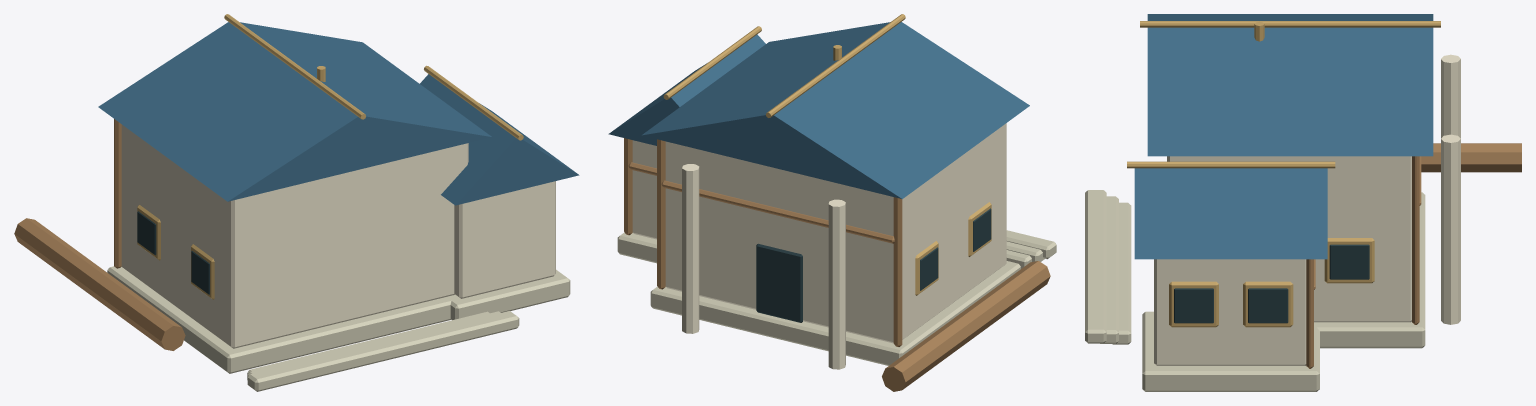
Rendered from level_20.glb.
The picture shows the model from 3 angles, left to right: view 1: azimuth 30°, elevation 25°; view 2: azimuth 150°, elevation 25°; view 3: azimuth 270°, elevation 25°; orthographic projection. The views are drawn at different scales.
Visible parts, largest first — view 1: timber_yard — level 20; view 2: timber_yard — level 20; view 3: timber_yard — level 20.
Boxes of the visible parts, bbox=[...] form: timber_yard — level 20: bbox=[14, 14, 579, 391]; timber_yard — level 20: bbox=[608, 14, 1056, 391]; timber_yard — level 20: bbox=[1085, 14, 1521, 391].
Size of the model in its own units: 6.43 by 3.77 by 5.66.
